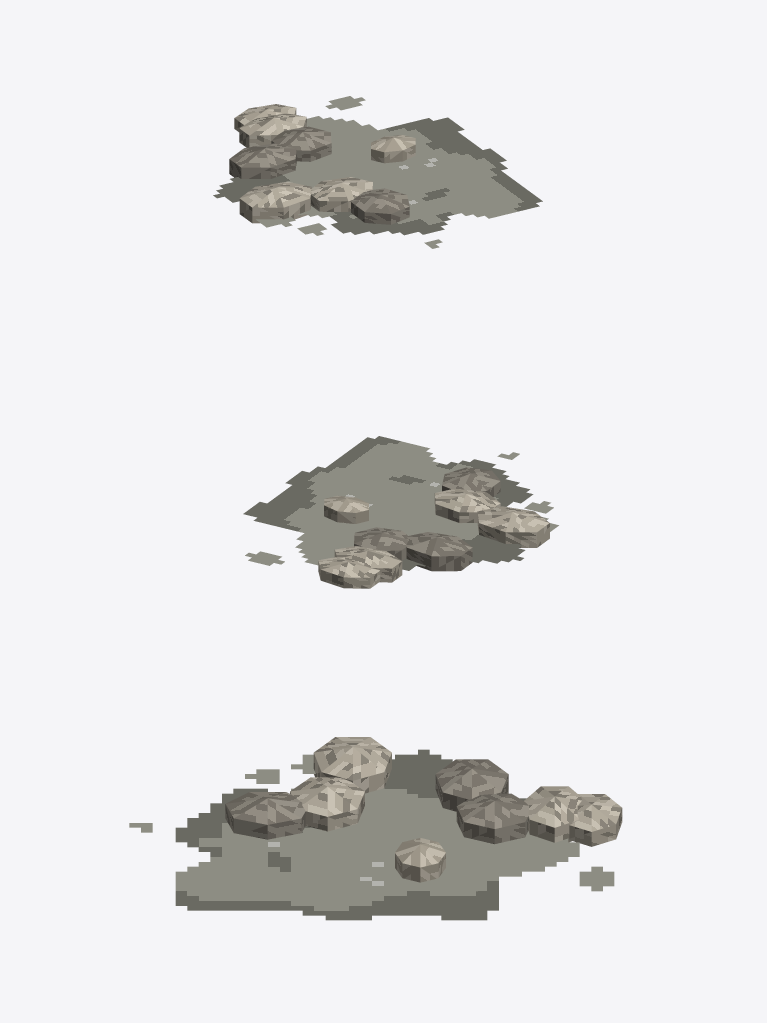
File: fd_gibs_invertebrate__2.glb
3 views of the same model, one above another, from view 1: azimuth 30°, elevation 25°; view 2: azimuth 150°, elevation 25°; view 3: azimuth 270°, elevation 25° (orthographic). The views are drawn at different scales.
Visible parts, largest first — view 1: block_liquid, block_goo (×7), block_quiver; view 2: block_liquid, block_goo (×7), block_quiver; view 3: block_liquid, block_goo (×7), block_quiver.
Part boxes in pixels (x1,y1,x2,y2): block_liquid: (213, 96, 542, 248); block_goo (×7): (229, 104, 409, 224); block_quiver: (371, 135, 415, 163); block_liquid: (243, 436, 558, 570); block_goo (×7): (318, 467, 549, 588); block_quiver: (324, 495, 368, 523); block_liquid: (129, 749, 614, 920); block_goo (×7): (225, 737, 622, 846); block_quiver: (395, 838, 445, 882).
Bounding box in the file's own units: 1 × 0.0641 × 1.
2 materials, 2 textured.
